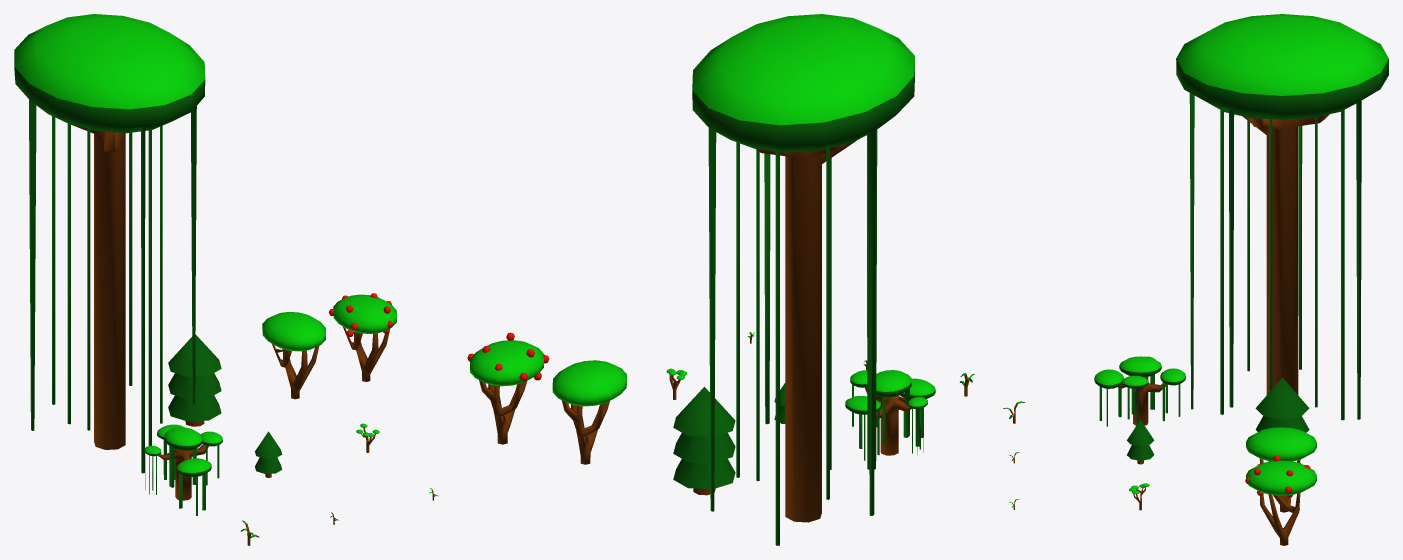
The model's file is avocado_trees.fbx.
3 renders of one model, left to right at view 1: azimuth 30°, elevation 25°; view 2: azimuth 150°, elevation 25°; view 3: azimuth 270°, elevation 25°, orthographic. The views are drawn at different scales.
Visible parts, largest first — view 1: jungle3, jungle2, conifer3, fruit3butwithfruit, fruit3, conifer2; view 2: jungle3, conifer3, jungle2, fruit3butwithfruit, fruit3; view 3: jungle3, jungle2, fruit3butwithfruit, fruit3, conifer3, conifer2.
Boxes of the visible parts, <box> form: jungle3: <box>14,14,205,473</box>; jungle2: <box>144,424,222,515</box>; conifer3: <box>168,334,221,426</box>; fruit3butwithfruit: <box>329,293,396,381</box>; fruit3: <box>262,312,325,399</box>; conifer2: <box>255,431,282,477</box>; jungle3: <box>692,14,914,545</box>; conifer3: <box>673,387,735,495</box>; jungle2: <box>845,370,935,460</box>; fruit3butwithfruit: <box>467,332,549,444</box>; fruit3: <box>552,360,626,464</box>; jungle3: <box>1176,14,1388,420</box>; jungle2: <box>1094,356,1185,426</box>; fruit3butwithfruit: <box>1245,455,1316,545</box>; fruit3: <box>1246,427,1316,512</box>; conifer3: <box>1255,377,1309,432</box>; conifer2: <box>1127,419,1154,464</box>.
Size of the model in its own units: 2572 by 2743 by 2447.
